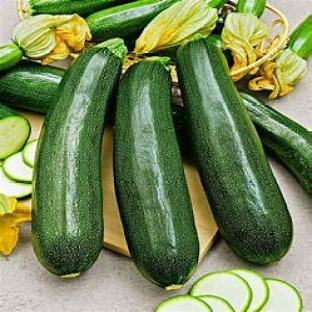Zucchini: (177, 39, 293, 265), (32, 39, 126, 276), (115, 58, 199, 290), (241, 93, 311, 194), (0, 61, 63, 113), (190, 272, 253, 311), (0, 103, 31, 159), (230, 269, 269, 311), (261, 279, 303, 311), (287, 15, 311, 59), (0, 166, 31, 198), (3, 152, 32, 183), (156, 296, 213, 311), (0, 44, 22, 71), (198, 295, 235, 311), (22, 140, 37, 167)
